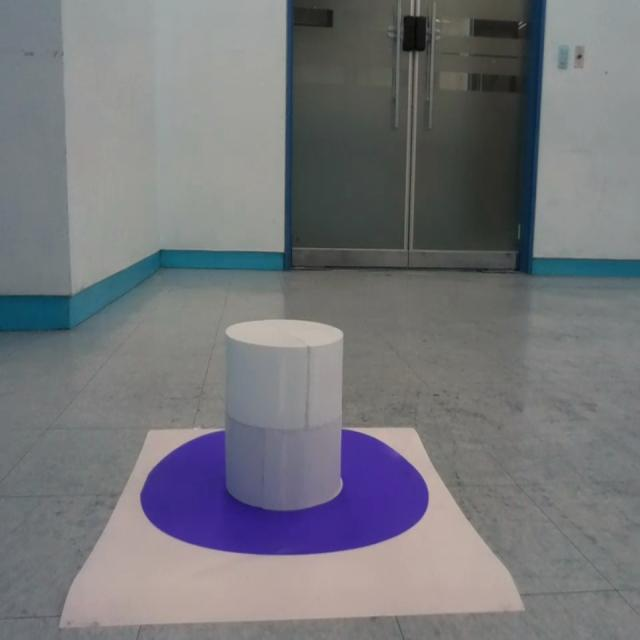cylinder: (224, 318, 345, 511)
